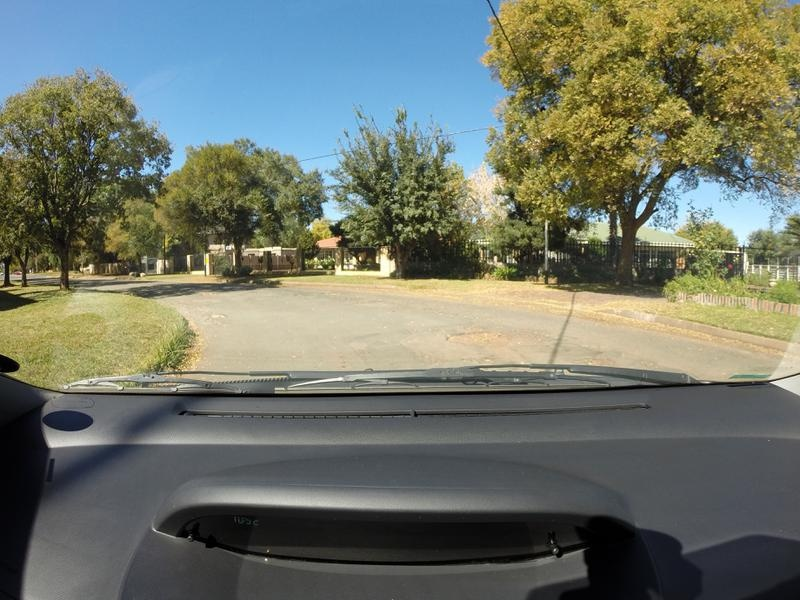pothole: (441, 317, 517, 348)
